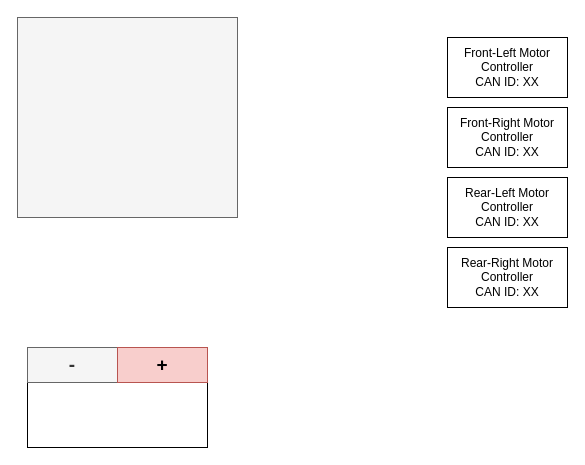
Some shapes in this 585 by 465 pixel diagram are drawn without their labels. Each missing label, with the box of its shape:
Battery: (26, 382, 208, 448)
RoboRIO: (16, 16, 238, 218)
